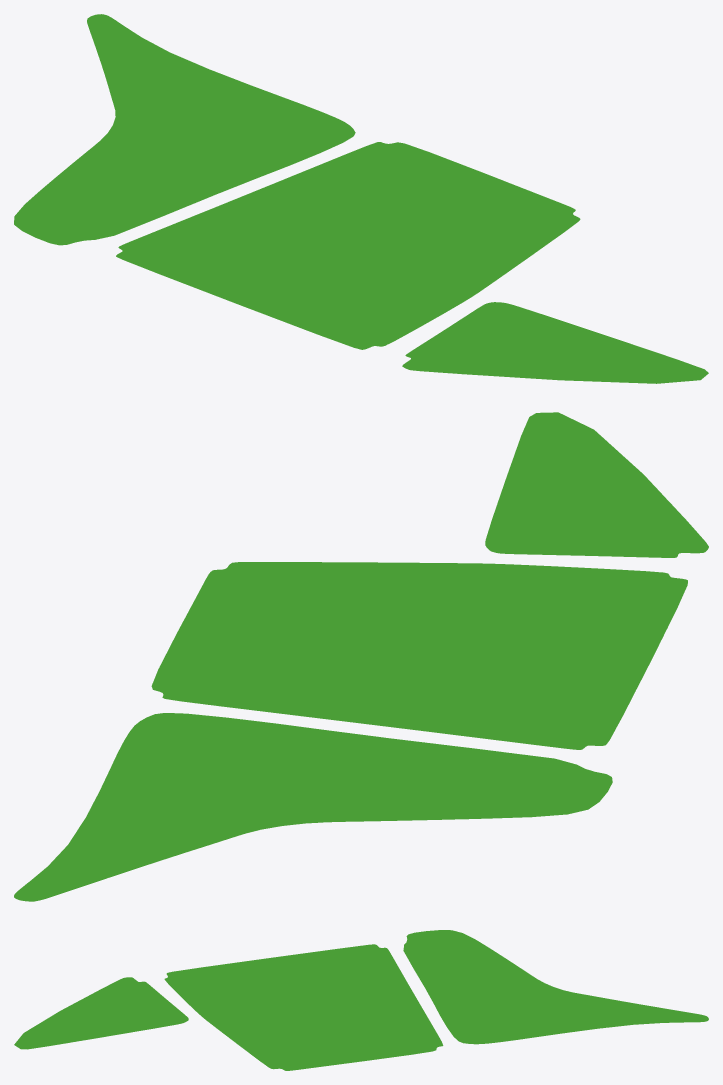
3 views of the same model, one above another, from view 1: azimuth 30°, elevation 25°; view 2: azimuth 150°, elevation 25°; view 3: azimuth 270°, elevation 25° (orthographic). The views are drawn at different scales.
Parts seen in each view (by area): view 1: ground; view 2: ground; view 3: ground.
Part boxes in pixels (<box>): ground: <box>14,14,708,383</box>; ground: <box>14,412,708,901</box>; ground: <box>14,930,708,1070</box>.
Size of the model in its own units: 93.38 by 0 by 195.
